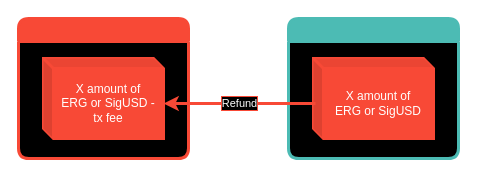
The diagram is 477 pixels wide and 177 high, and some of its shapes have lost their labels. Each missing label, with the box of its shape:
User Wallet: (16, 16, 190, 160)
Vesting1 SC: (286, 16, 460, 160)
